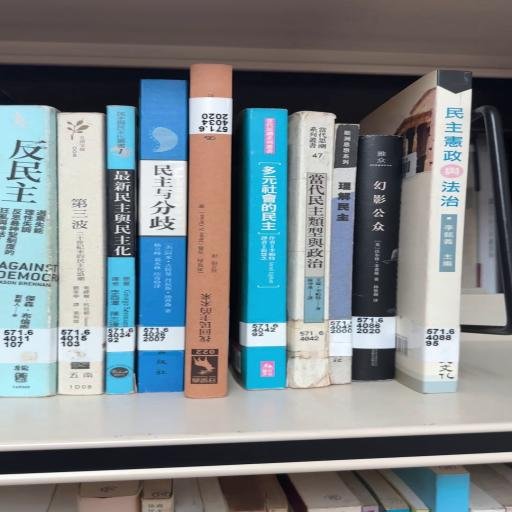book: (361, 71, 472, 394), (1, 106, 59, 398), (231, 109, 289, 391), (138, 80, 189, 393), (287, 112, 337, 389), (58, 114, 107, 396), (352, 136, 403, 383), (106, 106, 138, 395), (330, 125, 360, 385), (15, 112, 29, 129)
reverse: (185, 65, 233, 399)
